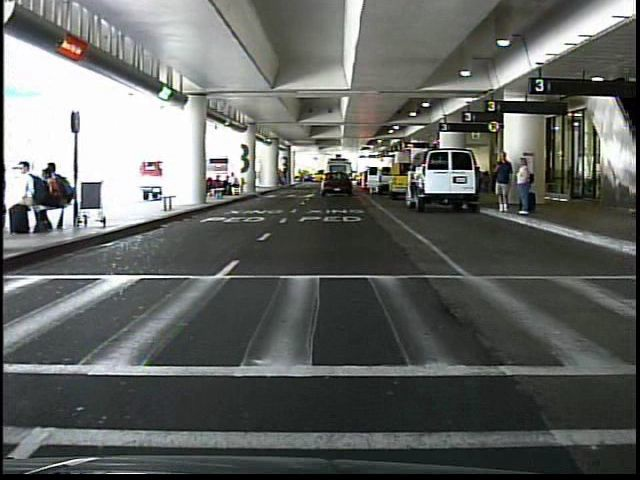person: (491, 147, 514, 217), (514, 154, 536, 221), (328, 170, 339, 193)
